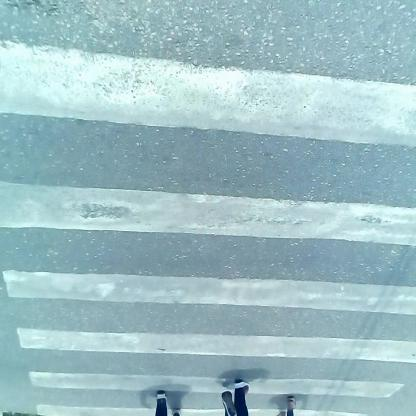crosswalk: (11, 2, 416, 387)
